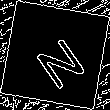N_NW: (24, 23, 86, 87)
